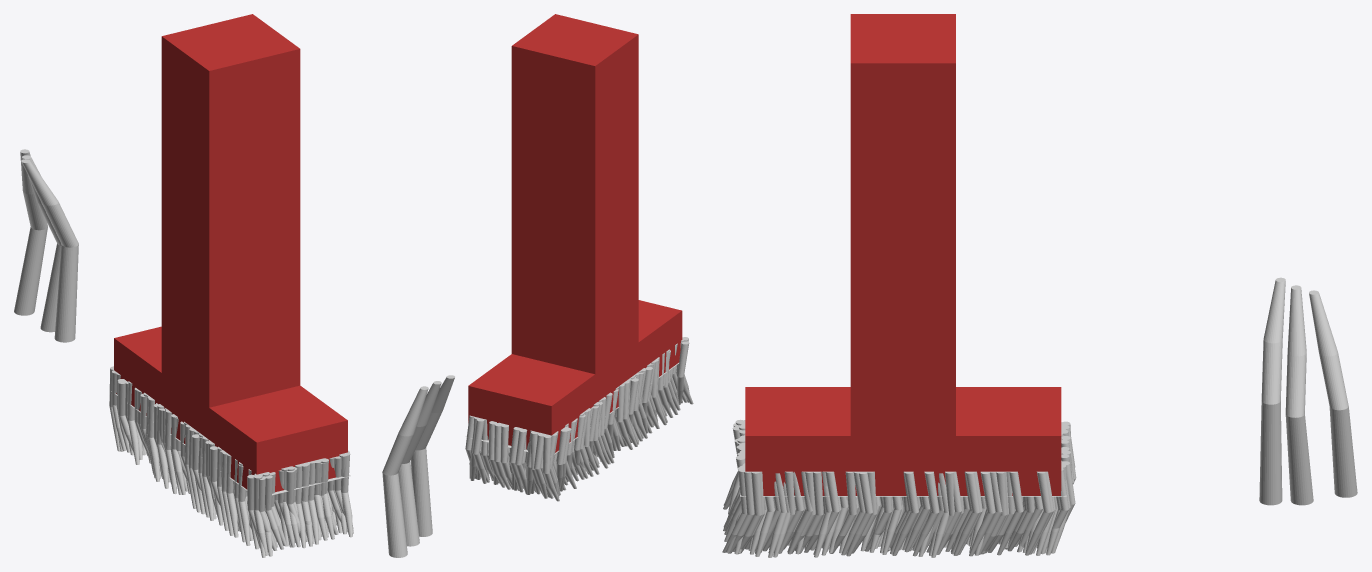
File: limpiadora.glb
The picture shows the model from 3 angles, left to right: view 1: azimuth 30°, elevation 25°; view 2: azimuth 150°, elevation 25°; view 3: azimuth 270°, elevation 25°; orthographic projection. The views are drawn at different scales.
Visible parts, largest first — view 1: Cube, Cylinder (×12), Cylinder.002 (×4), Cylinder.001 (×5); view 2: Cube, Cylinder (×5), Cylinder.001 (×5), Cylinder.002 (×3); view 3: Cube, Cylinder, Cylinder.001, Cylinder.002.
Part boxes in pixels (x1,y1,x2,y2): Cube: (114,14,347,492); Cylinder (×12): (21,159,352,548); Cylinder.002 (×4): (14,149,300,549); Cylinder.001 (×5): (22,155,334,555); Cube: (468,14,682,452); Cylinder (×5): (411,375,632,536); Cylinder.001 (×5): (398,381,547,546); Cylinder.002 (×3): (382,341,689,557); Cube: (745,14,1061,495); Cylinder: (1259,277,1285,505); Cylinder.001: (1285,285,1313,505); Cylinder.002: (1309,290,1357,497).
Size of the model in its own units: 0.8749 by 3.44 by 4.02.
